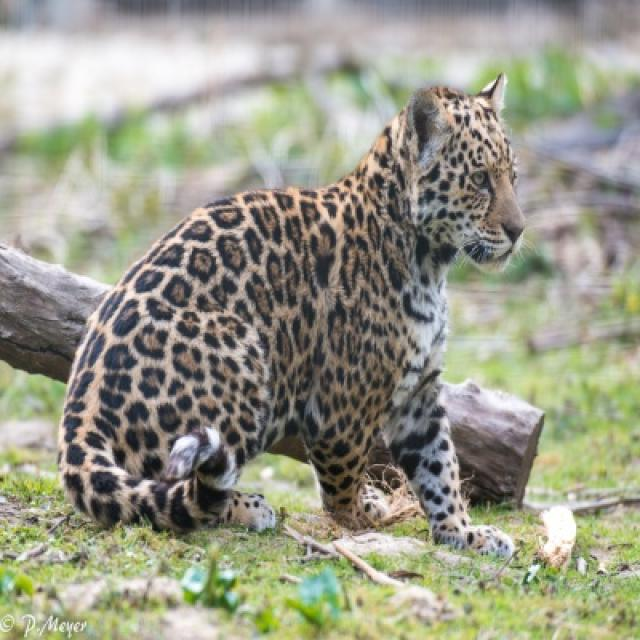Jaguar: (56, 75, 528, 552)
